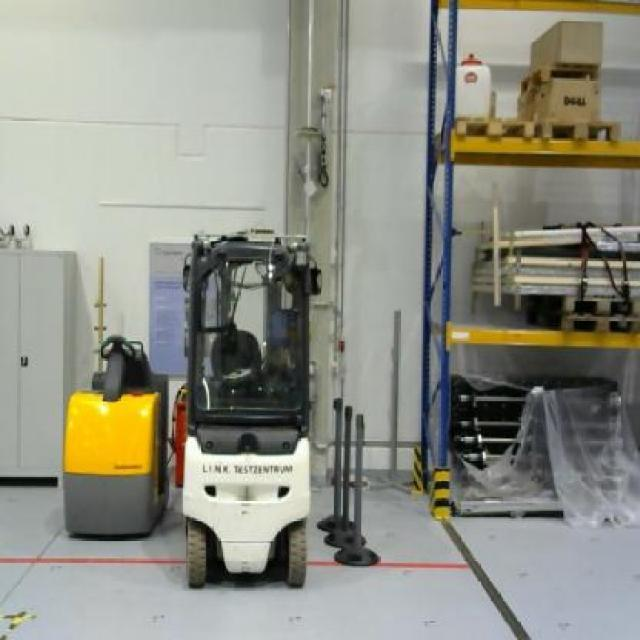box: (530, 17, 602, 74), (513, 77, 598, 125)
